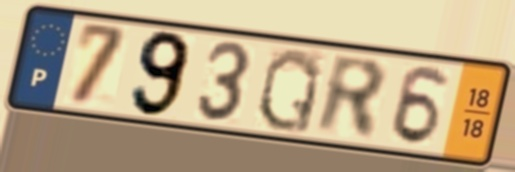3: (194, 39, 256, 125)
6: (387, 64, 450, 148)
7: (68, 20, 133, 108)
9: (128, 28, 196, 120)
Q: (253, 45, 325, 137)
R: (313, 51, 389, 143)
